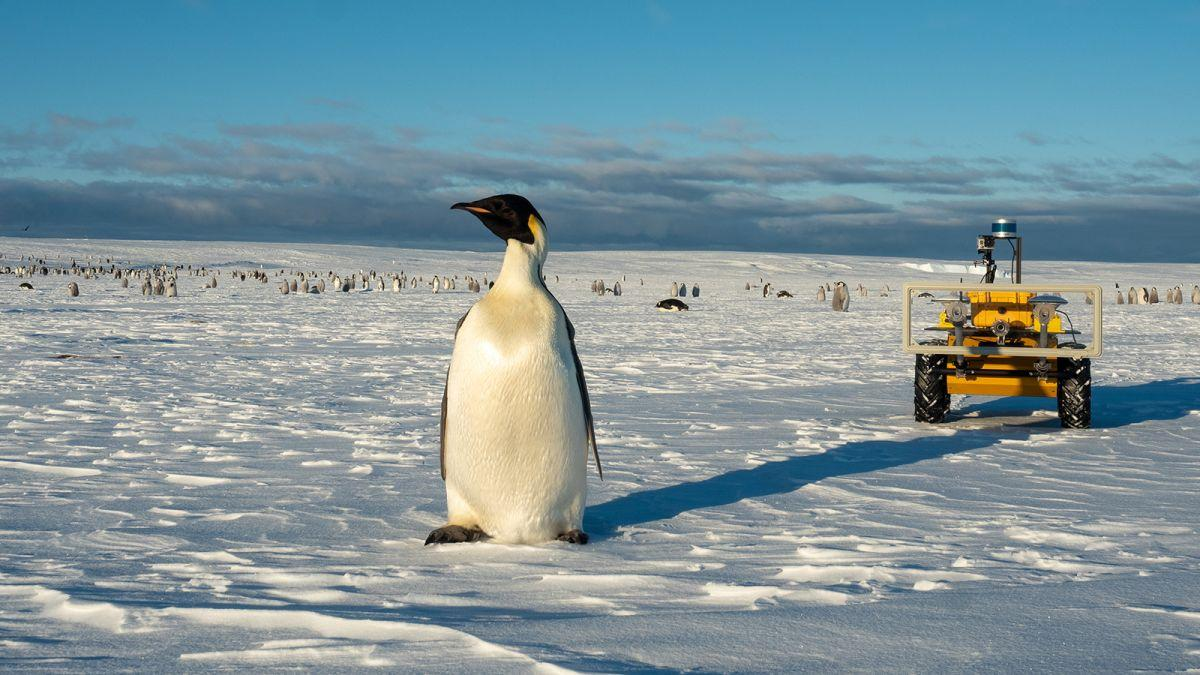emporer: (428, 173, 619, 583)
